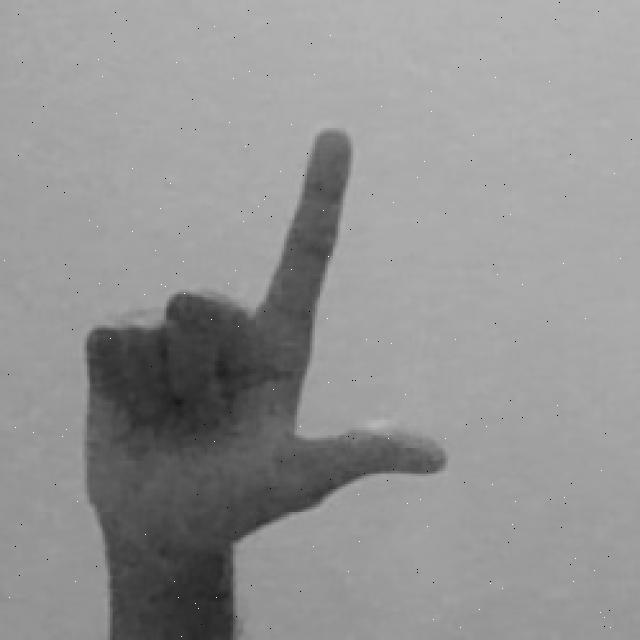L: (79, 120, 453, 640)
